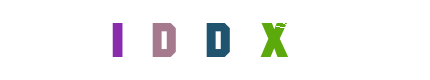D: (175, 0, 255, 80), (178, 0, 258, 80)
I: (111, 0, 191, 80)
X: (234, 0, 314, 80)
